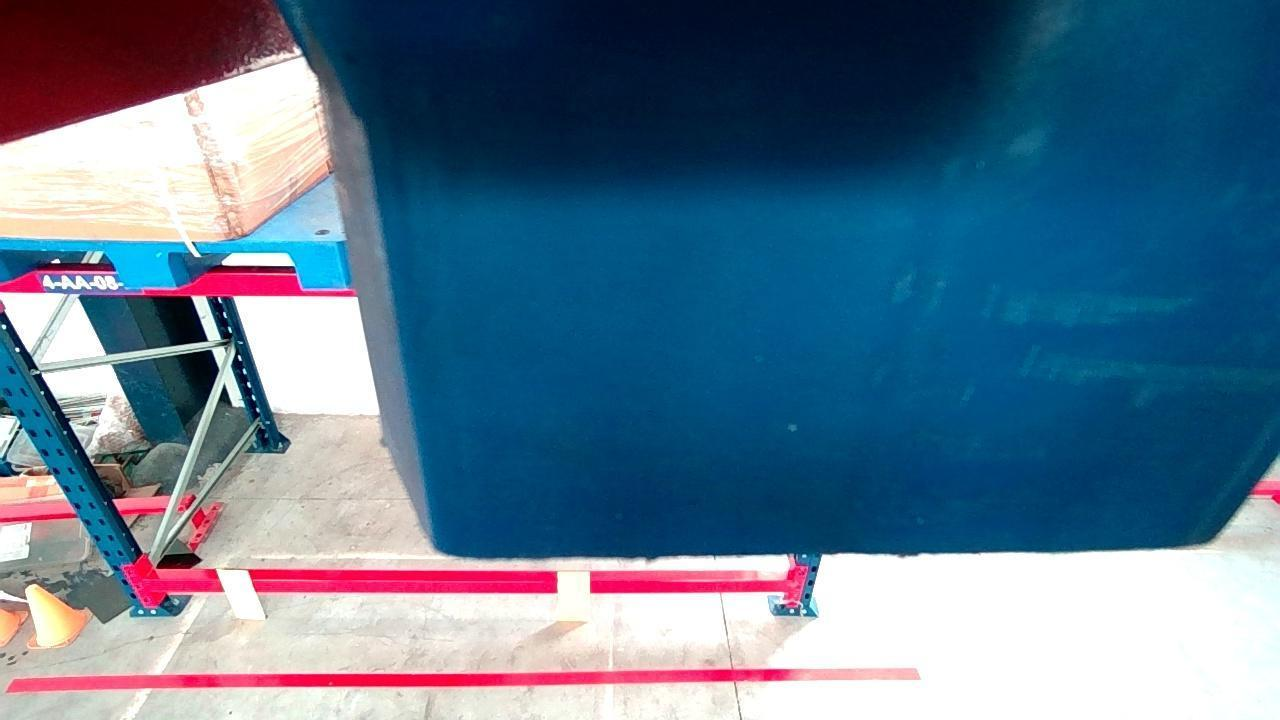h_rack: (141, 574, 793, 595), (1, 271, 353, 294)
orange_strip: (213, 565, 262, 619), (558, 563, 590, 620)
red_line: (7, 660, 926, 692)
small_pallet: (0, 235, 352, 285)
